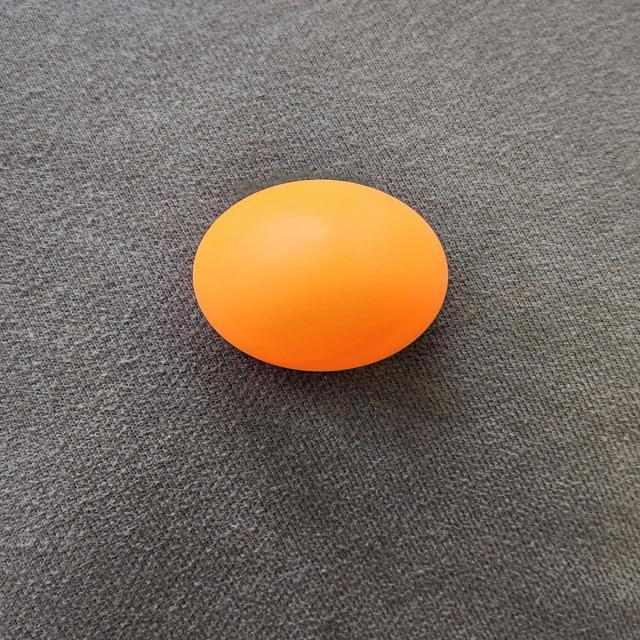oball: (188, 170, 462, 380)
